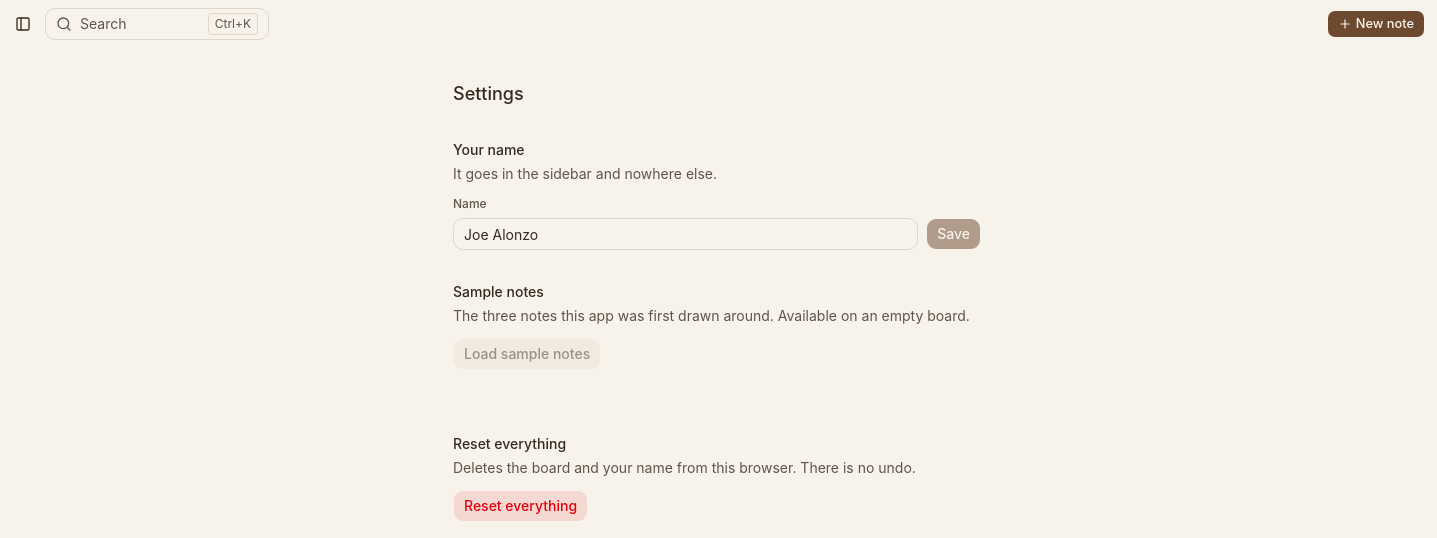
Test: T89 · Save knows whether anything actually changed › is inert again when a change is typed and then typed back
In the field labelled "Name": [686, 234] box [453,218,918,250], type "x"
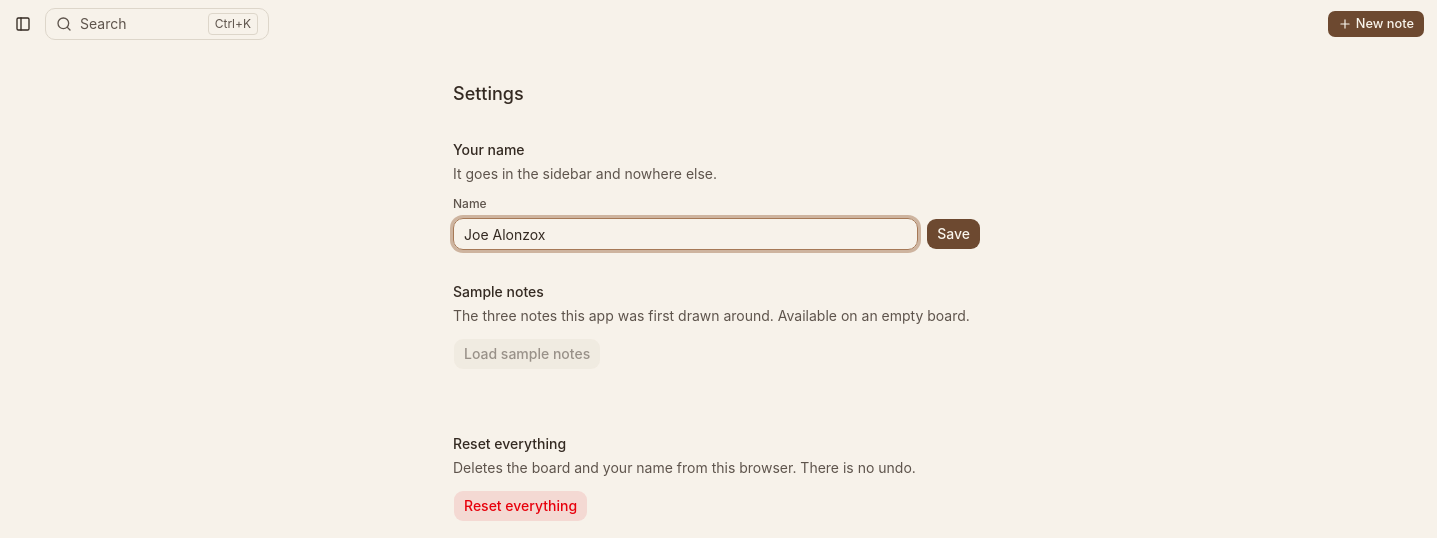
Now the button "Save" is enabled, box [926,218,981,250]
Press Backspace
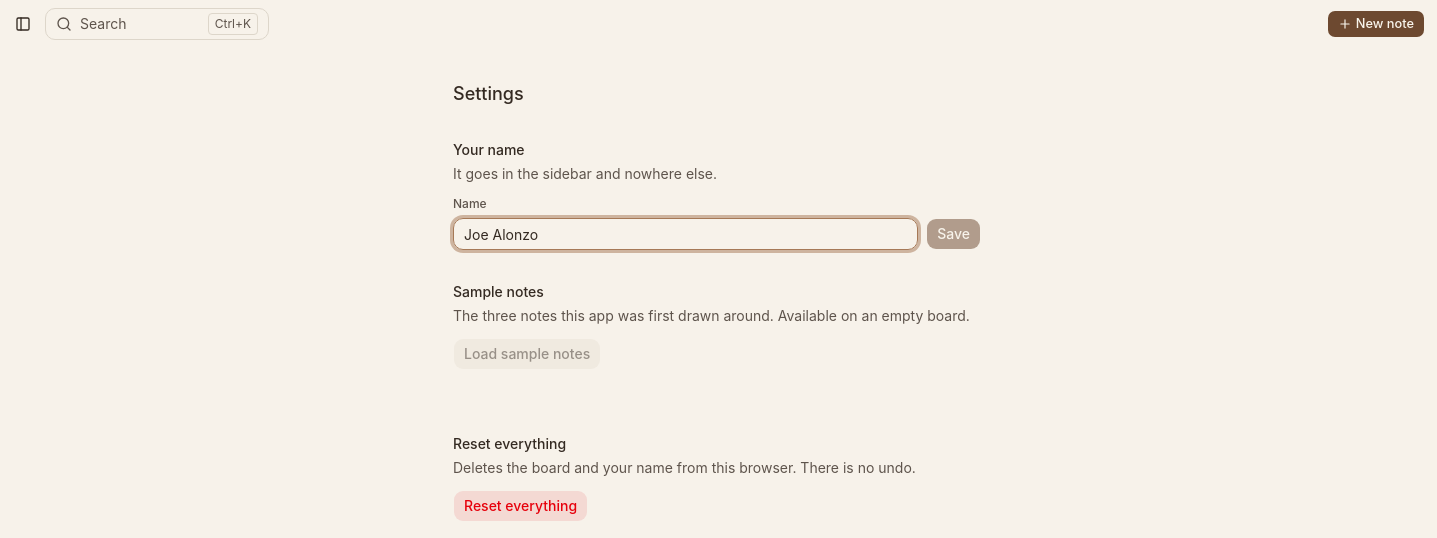
Now the button "Save" is disabled, box [926,218,981,250]
